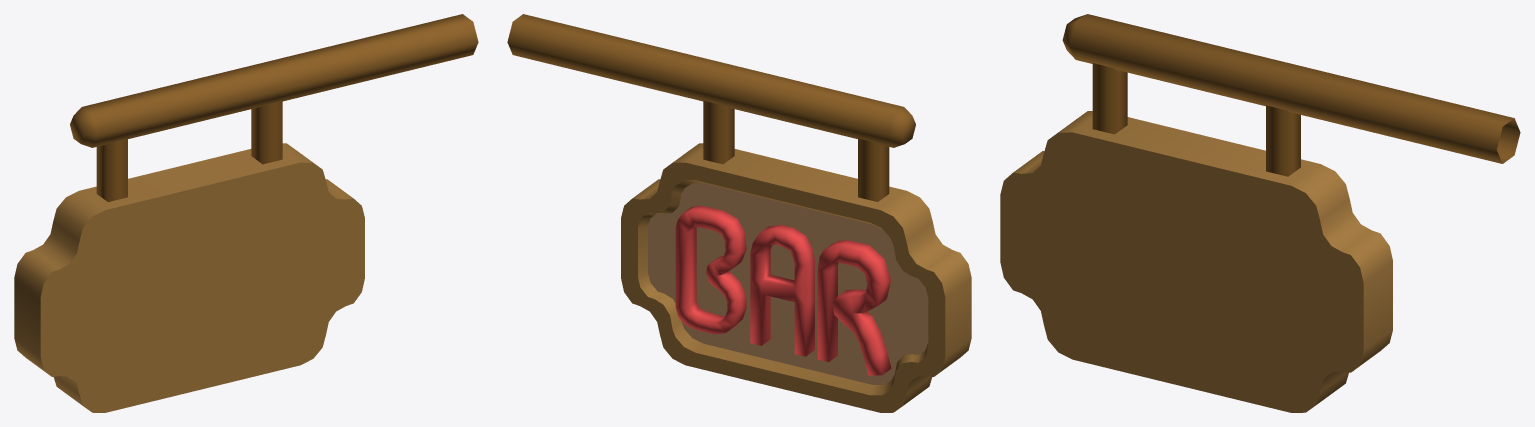
File: BarSign.fbx
The picture shows the model from 3 angles, left to right: view 1: azimuth 30°, elevation 25°; view 2: azimuth 150°, elevation 25°; view 3: azimuth 330°, elevation 25°; orthographic projection. The views are drawn at different scales.
Parts seen in each view (by area): view 1: BarSign; view 2: BarSign; view 3: BarSign.
Boxes of the visible parts, x1=… form: BarSign: x1=14, y1=14, x2=478, y2=412; BarSign: x1=507, y1=14, x2=971, y2=412; BarSign: x1=1000, y1=14, x2=1520, y2=412.
Bounding box in the file's own units: 281 × 179 × 33.8.
